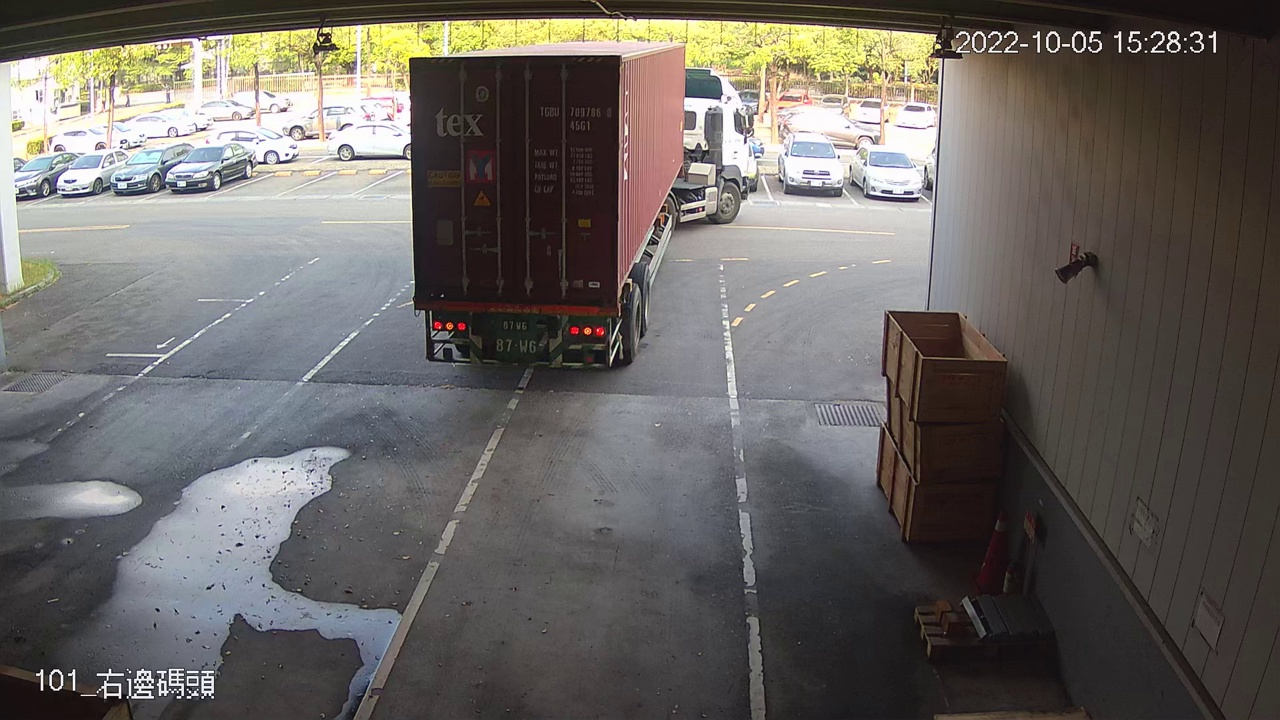container: (535, 100, 615, 136)
